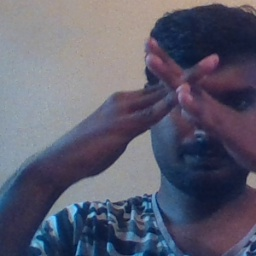W: (112, 28, 248, 155)
